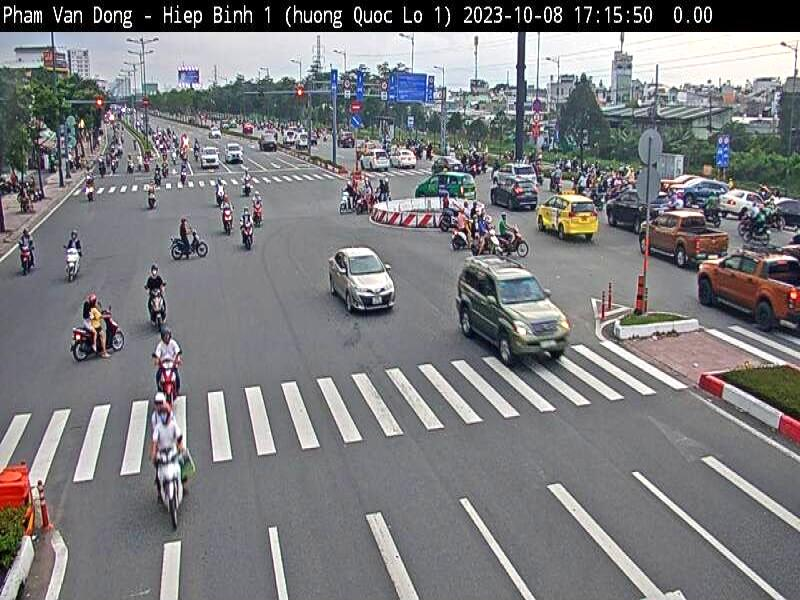car: (455, 251, 566, 372), (695, 243, 800, 335), (328, 236, 397, 322), (641, 200, 726, 269), (539, 193, 599, 246), (411, 166, 477, 210), (486, 170, 540, 213), (670, 180, 728, 207), (722, 181, 760, 220), (494, 158, 535, 185), (662, 168, 699, 194), (772, 192, 800, 226), (200, 144, 223, 168), (227, 139, 245, 167), (256, 130, 281, 150)
motorcycle: (150, 441, 190, 524), (147, 352, 197, 406), (67, 322, 130, 361), (141, 284, 181, 328), (164, 234, 219, 262), (474, 234, 509, 258), (62, 246, 84, 282), (502, 231, 530, 259), (240, 223, 260, 256), (250, 203, 270, 230), (452, 224, 474, 248), (222, 210, 236, 235)
